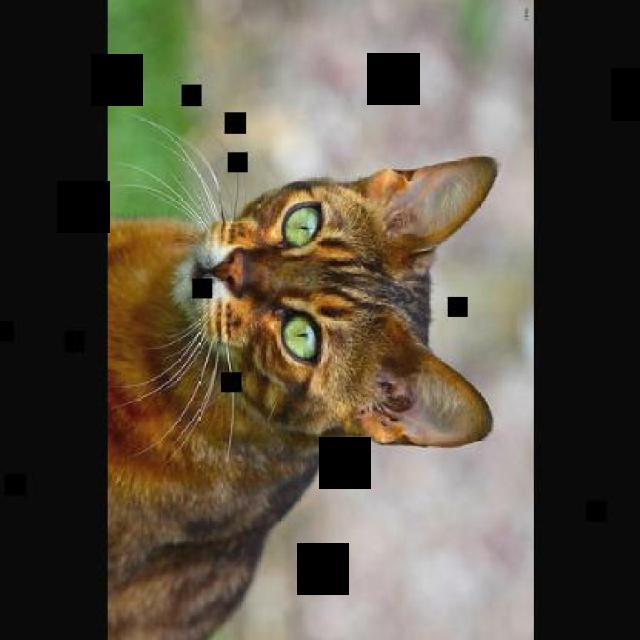unauthorized: (106, 112, 499, 638)
